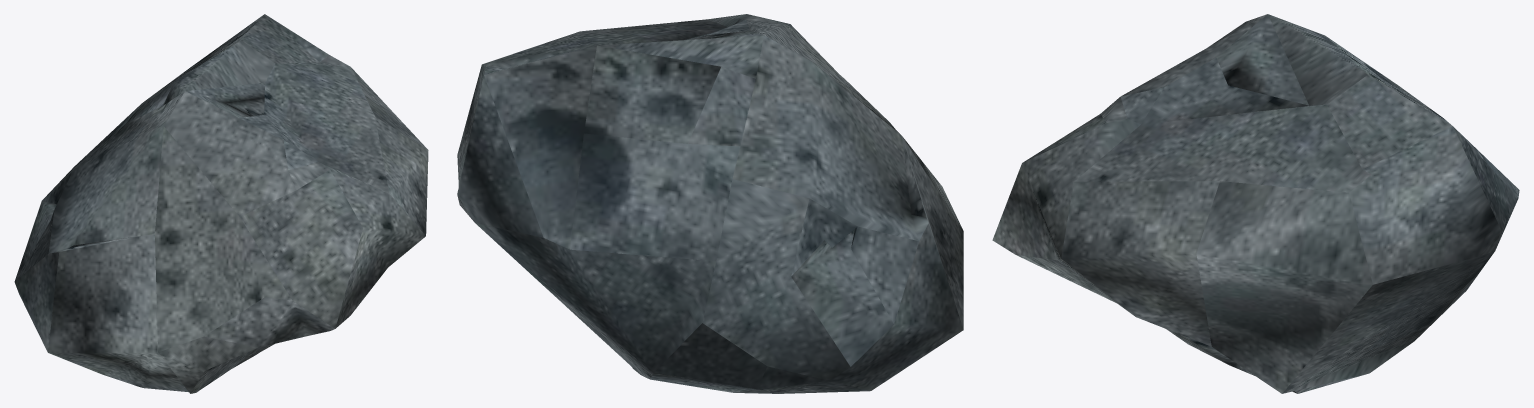
Rendered from Asteroid2-low.glb.
3 renders of one model, left to right at view 1: azimuth 30°, elevation 25°; view 2: azimuth 150°, elevation 25°; view 3: azimuth 270°, elevation 25°, orthographic. The views are drawn at different scales.
Parts seen in each view (by area): view 1: mesh_node; view 2: mesh_node; view 3: mesh_node.
Part boxes in pixels (x1=…): mesh_node: x1=14, y1=14, x2=428, y2=393; mesh_node: x1=457, y1=14, x2=963, y2=393; mesh_node: x1=992, y1=14, x2=1519, y2=393.
Bounding box in the file's own units: 0.957 × 0.6777 × 0.9727.
Materials: 1 (1 with a texture image).
